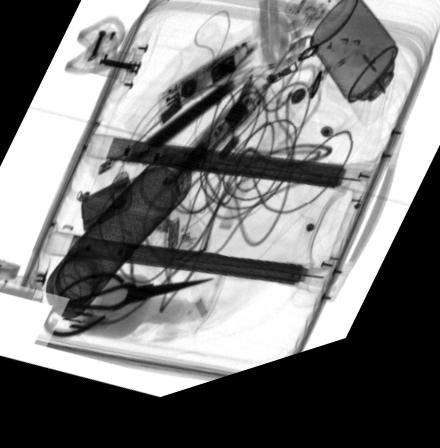Lighter: (80, 183, 133, 236)
Scissors: (43, 277, 218, 342)
Sprayer: (306, 14, 413, 151)
